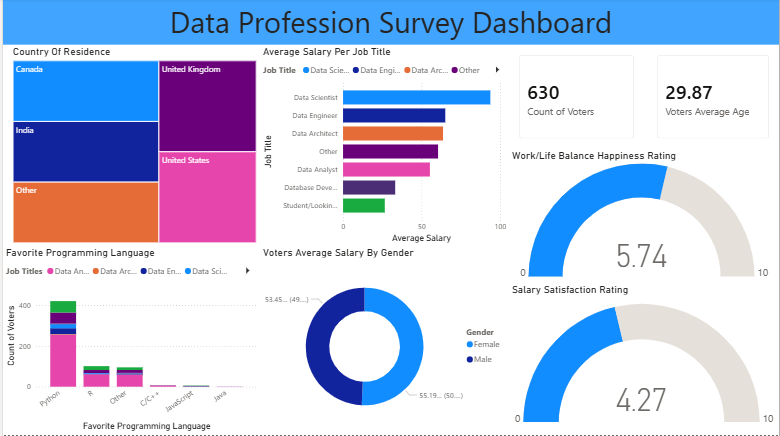

What the dashboard file says about the page in this screenshot:
{"tool":"powerbi","page":{"name":"Page 1","canvas":[1280,720],"ordinal":0},"visuals":[{"type":"textbox","box":[0,0,1280,77.3],"z":0},{"type":"cardVisual","fields":{"Data":["Count(Data Professional Survey.Unique ID)"]},"box":[834.3,78,223.7,171.7],"z":1000},{"type":"cardVisual","fields":{"Data":["Avg(Data Professional Survey.Q10 - Current Age)"]},"box":[1061.5,78,218.5,171.7],"z":2000},{"type":"barChart","title":"Average Salary Per Job Title","fields":{"Category":["Data Professional Survey.Q1 - Which Title Best Fits your Current Role?.1"],"Y":["Avg(Data Professional Survey.Average Salary)"],"Series":["Data Professional Survey.Q1 - Which Title Best Fits your Current Role?.1"]},"box":[423.2,78,411.1,331.3],"z":3000},{"type":"columnChart","title":"Favorite Programming Language","fields":{"Category":["Data Professional Survey.Q5 - Favorite Programming Language.1"],"Y":["CountNonNull(Data Professional Survey.Unique ID)"],"Series":["Data Professional Survey.Q1 - Which Title Best Fits your Current Role?.1"]},"box":[0,409.3,423.2,310.5],"z":4000},{"type":"treemap","title":"Country Of Residence","fields":{"Group":["Data Professional Survey.Q11 - Which Country do you live in?.1"],"Values":["Count(Data Professional Survey.Q11 - Which Country do you live in?.1)"]},"box":[12.1,78,411.1,331.3],"z":5000},{"type":"gauge","title":"Work/Life Balance Happiness Rating","fields":{"Y":["Avg(Data Professional Survey.Q6 - How Happy are you in your Current Position with the following? (Work/Life Balance))"],"MinValue":["Min(Data Professional Survey.Q6 - How Happy are you in your Current Position with the following? (Work/Life Balance))"],"MaxValue":["Max(Data Professional Survey.Q6 - How Happy are you in your Current Position with the following? (Work/Life Balance))"]},"box":[834.3,249.8,445.7,220.3],"z":6000},{"type":"gauge","title":"Salary Satisfaction Rating","fields":{"Y":["Avg(Data Professional Survey.Q6 - How Happy are you in your Current Position with the following? (Salary))"],"MinValue":["Min(Data Professional Survey.Q6 - How Happy are you in your Current Position with the following? (Salary))"],"MaxValue":["Max(Data Professional Survey.Q6 - How Happy are you in your Current Position with the following? (Salary))"]},"box":[834.3,470,445.7,249.8],"z":7000},{"type":"donutChart","title":"Voters Average Salary By Gender","fields":{"Y":["Avg(Data Professional Survey.Average Salary)"],"Category":["Data Professional Survey.Q9 - Male/Female?"]},"box":[423.2,409.3,411.1,310.5],"z":8000}]}

Visuals, with their boxes in screenshot pixels (x1, y1, x2, y2), scaled from the page's 1280x720 canvas onto the 780x436 screenshot:
textbox: select_region(0, 0, 779, 47)
cardVisual - Count(Data Professional Survey.Unique ID): select_region(508, 47, 645, 151)
cardVisual - Avg(Data Professional Survey.Q10 - Current Age): select_region(647, 47, 779, 151)
"Average Salary Per Job Title" barChart: select_region(258, 47, 508, 248)
"Favorite Programming Language" columnChart: select_region(0, 248, 258, 435)
"Country Of Residence" treemap: select_region(7, 47, 258, 248)
"Work/Life Balance Happiness Rating" gauge: select_region(508, 151, 779, 285)
"Salary Satisfaction Rating" gauge: select_region(508, 285, 779, 435)
"Voters Average Salary By Gender" donutChart: select_region(258, 248, 508, 435)
